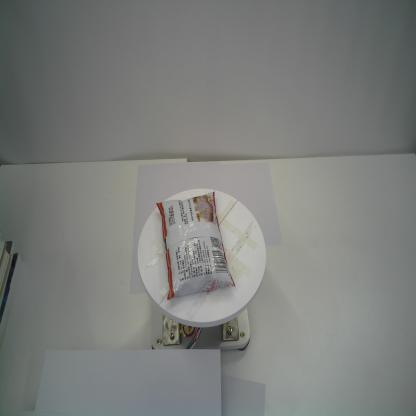Seasoner: (156, 190, 236, 301)
